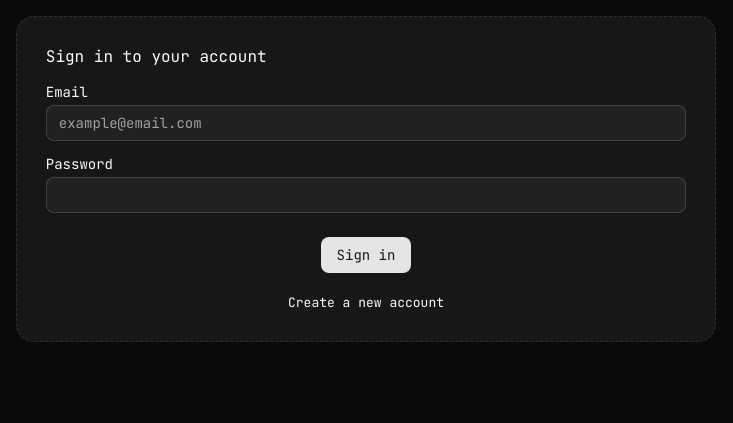
Scenario: LoginUser Component › successfully logs in and displays success message
This screenshot has width=733, height=423.
Simulate user input
In the field labelled "Email": [366, 123] box x1=46 y1=105 x2=686 y2=141, type "test@example.com"
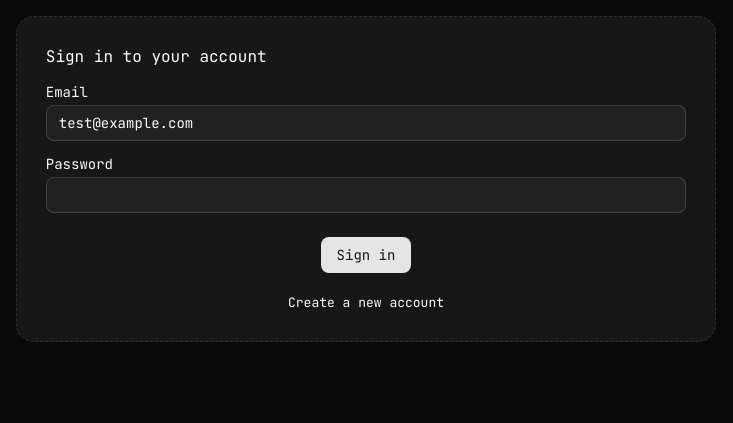
In the password field labelled "Password": [366, 194] box x1=46 y1=176 x2=686 y2=212, type "password123"
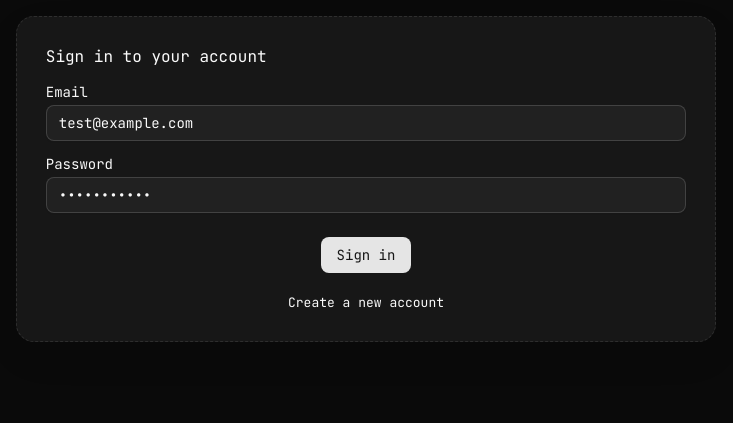
Simulate form submission
Click the button "Sign in": [366, 254] box x1=321 y1=236 x2=411 y2=272
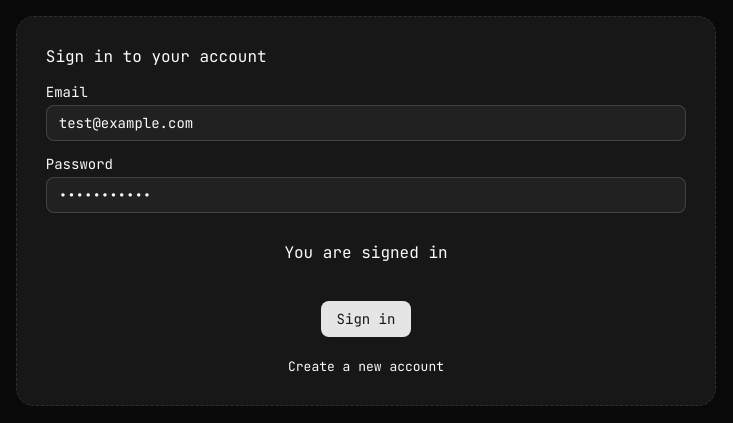
Result: the text "You are signed in" is shown at x1=284 y1=240 x2=448 y2=264
